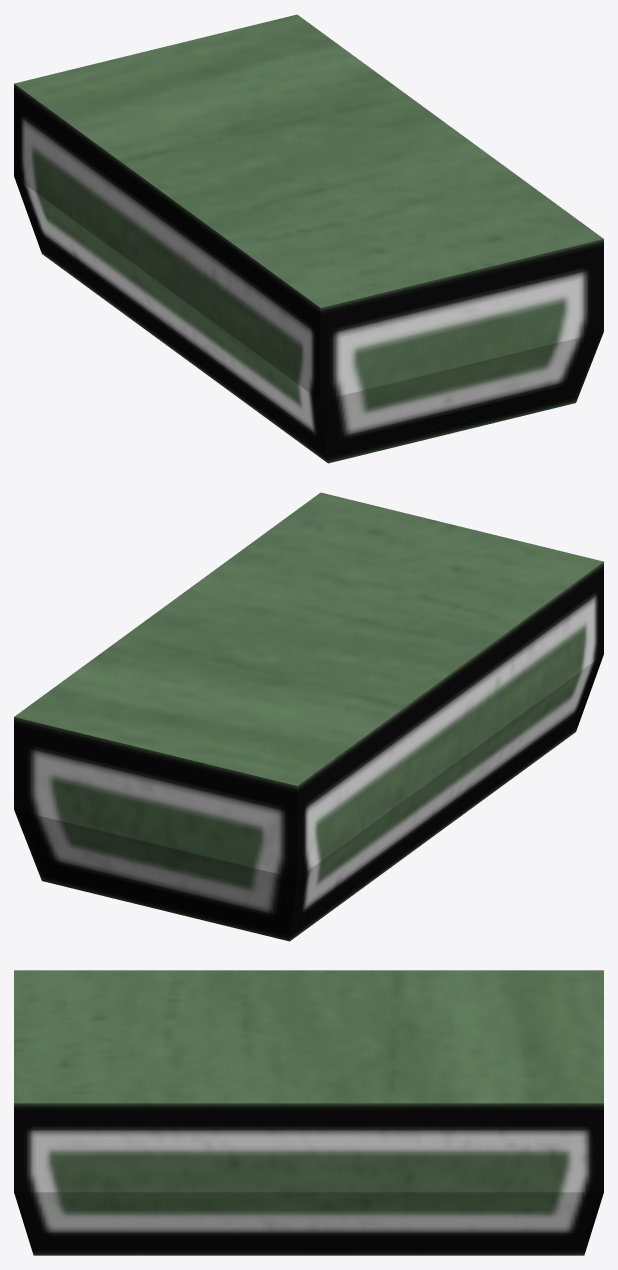
Rendered from SM_GJJ_HG_Soro01B.fbx.
The picture shows the model from 3 angles, top to bottom: view 1: azimuth 30°, elevation 25°; view 2: azimuth 150°, elevation 25°; view 3: azimuth 270°, elevation 25°; orthographic projection. The views are drawn at different scales.
Parts seen in each view (by area): view 1: SM_GJJ_HG_Soro01B; view 2: SM_GJJ_HG_Soro01B; view 3: SM_GJJ_HG_Soro01B.
Boxes of the visible parts, left/top/right/bottom form: SM_GJJ_HG_Soro01B: left=14, top=14, right=603, bottom=463; SM_GJJ_HG_Soro01B: left=14, top=492, right=603, bottom=941; SM_GJJ_HG_Soro01B: left=14, top=970, right=603, bottom=1255.
Size of the model in its own units: 16 by 30 by 9.02.
1 material, 1 textured.
